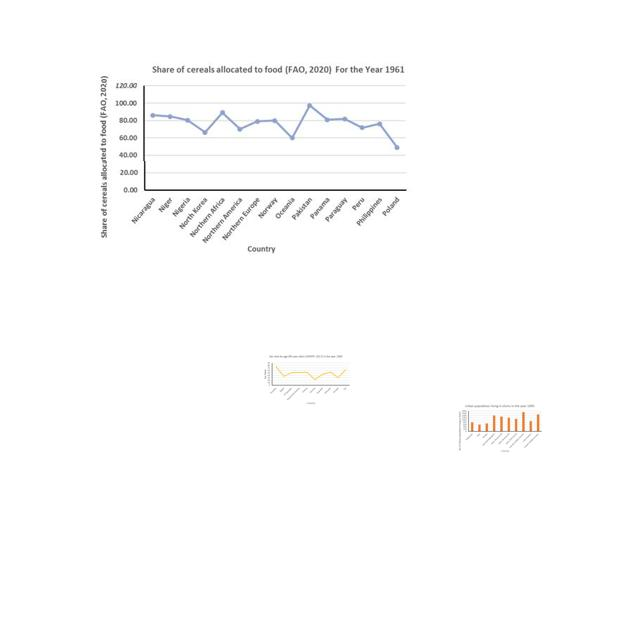Graph: (89, 62, 425, 268), (261, 354, 351, 406), (457, 403, 543, 453)
